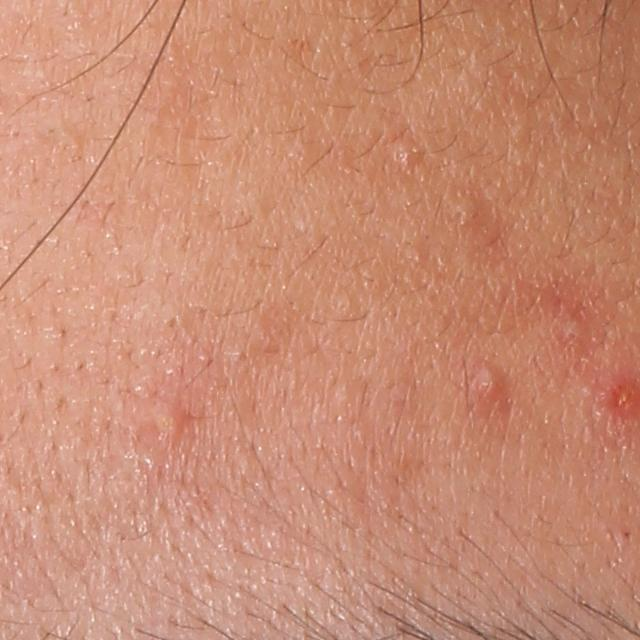comedo: (448, 194, 478, 233), (389, 138, 419, 166), (615, 523, 640, 545), (162, 313, 182, 331)
papule: (468, 362, 503, 407), (153, 402, 185, 439)
